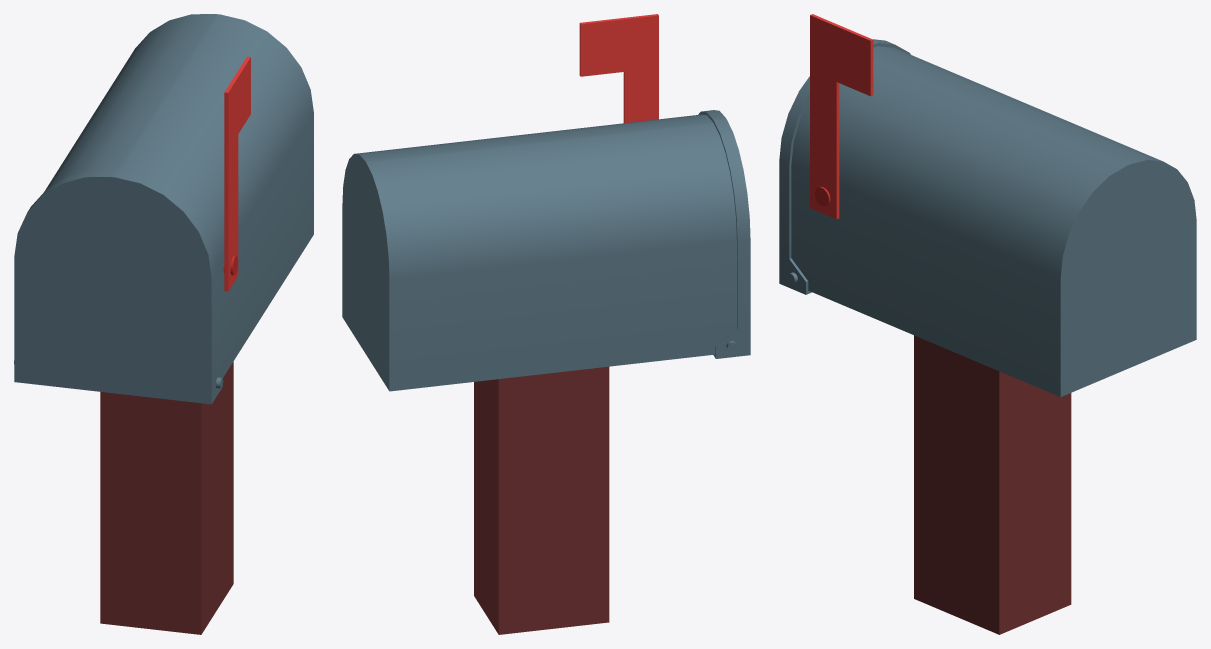
The model's file is closed_mailbox_with_raised_flag.glb.
The picture shows the model from 3 angles, left to right: view 1: azimuth 30°, elevation 25°; view 2: azimuth 150°, elevation 25°; view 3: azimuth 270°, elevation 25°; orthographic projection. The views are drawn at different scales.
Parts seen in each view (by area): view 1: Cube.970; view 2: Cube.970; view 3: Cube.970.
Boxes of the visible parts, x1,y1,x2,y2 form: Cube.970: (14,14,313,634); Cube.970: (342,14,750,634); Cube.970: (779,14,1196,634).
Bounding box in the file's own units: 1.46 × 2.21 × 1.46.
1 material, 1 textured.
